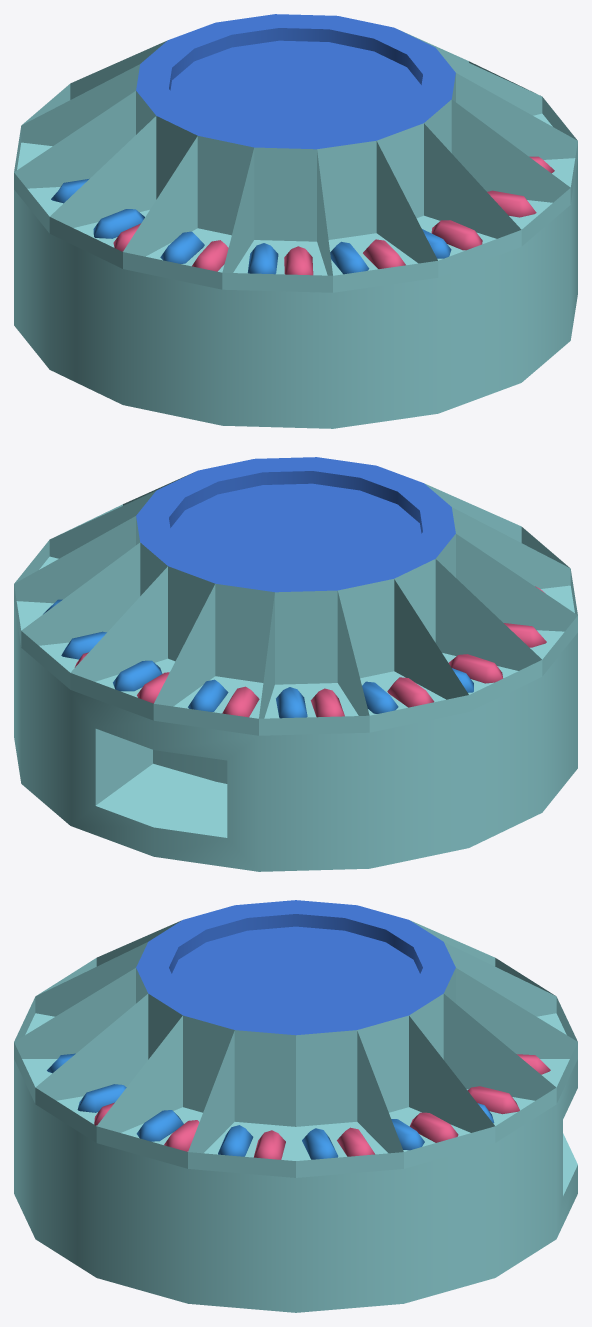
Rendered from Pill Dispenser.fbx.
The picture shows the model from 3 angles, top to bottom: view 1: azimuth 30°, elevation 25°; view 2: azimuth 150°, elevation 25°; view 3: azimuth 270°, elevation 25°; orthographic projection.
Parts seen in each view (by area): view 1: Cylinder, Cylinder.001, Cylinder.002; view 2: Cylinder, Cylinder.001, Cylinder.002; view 3: Cylinder, Cylinder.001, Cylinder.002.
Boxes of the visible parts, x1,y1,x2,y2 form: Cylinder: (14,14,577,428); Cylinder.001: (113,156,554,275); Cylinder.002: (51,178,451,274); Cylinder: (14,457,577,871); Cylinder.001: (74,586,546,717); Cylinder.002: (43,599,473,718); Cylinder: (14,900,577,1312); Cylinder.001: (94,1054,550,1159); Cylinder.002: (47,1053,494,1159).
Bounding box in the file's own units: 200 × 88.45 × 200.
